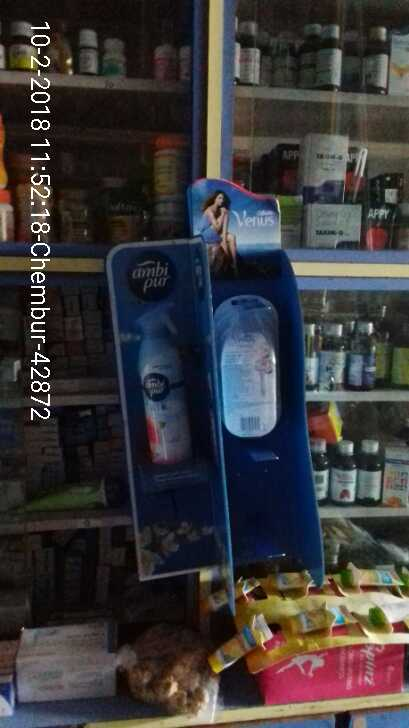ambipure: (129, 288, 194, 465)
